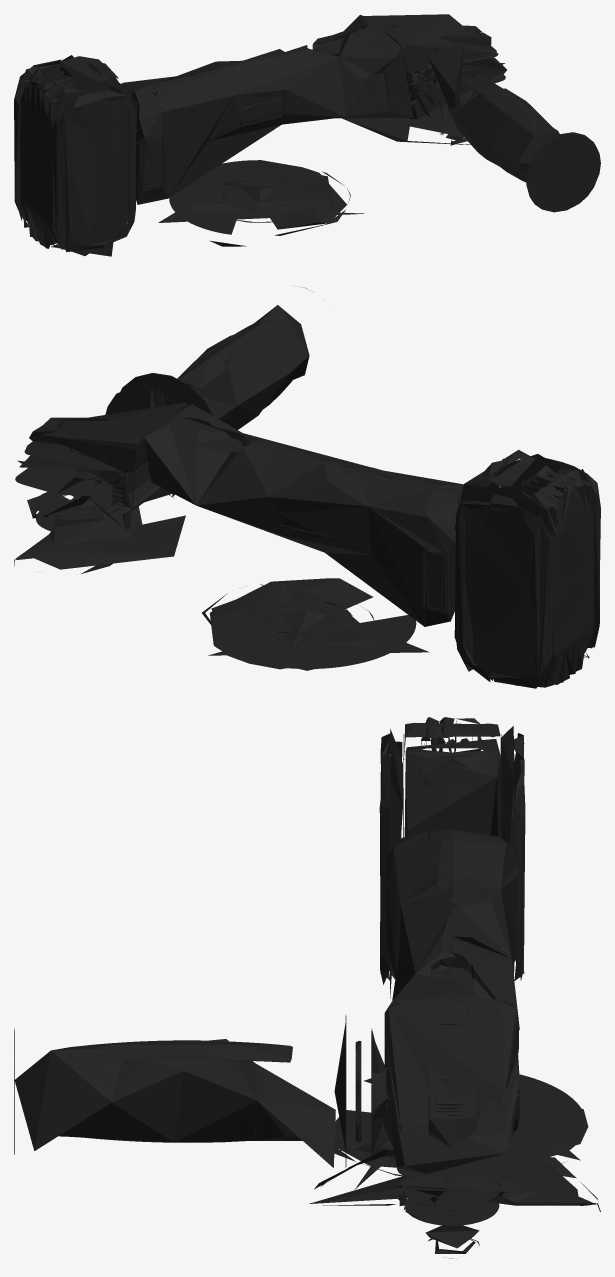
Rendered from powerTool_grinder_b01.glb.
The picture shows the model from 3 angles, top to bottom: view 1: azimuth 30°, elevation 25°; view 2: azimuth 150°, elevation 25°; view 3: azimuth 270°, elevation 25°; orthographic projection. The views are drawn at different scales.
Parts seen in each view (by area): view 1: geometry_0; view 2: geometry_0; view 3: geometry_0.
Boxes of the visible parts, bbox=[...] form: geometry_0: bbox=[14, 14, 600, 256]; geometry_0: bbox=[14, 286, 600, 688]; geometry_0: bbox=[14, 717, 600, 1259].
Size of the model in its own units: 0.42 by 0.1603 by 0.3081.
1 material, 1 textured.
